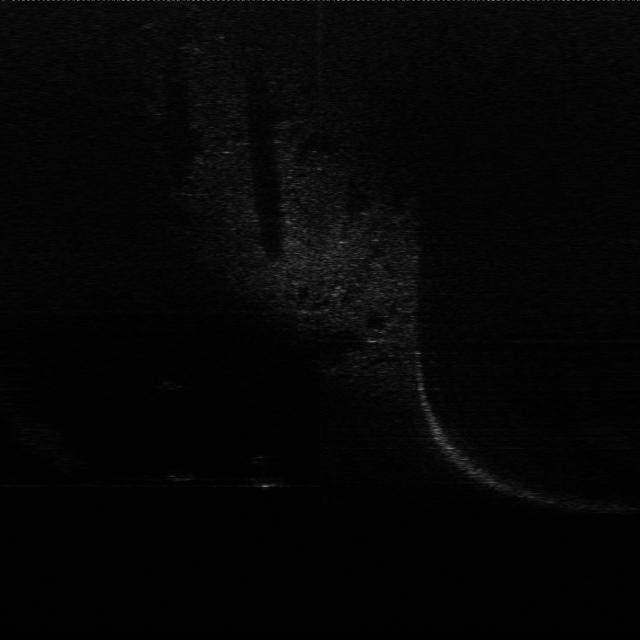cube: (166, 462, 200, 487)
tyre: (240, 447, 288, 491)
